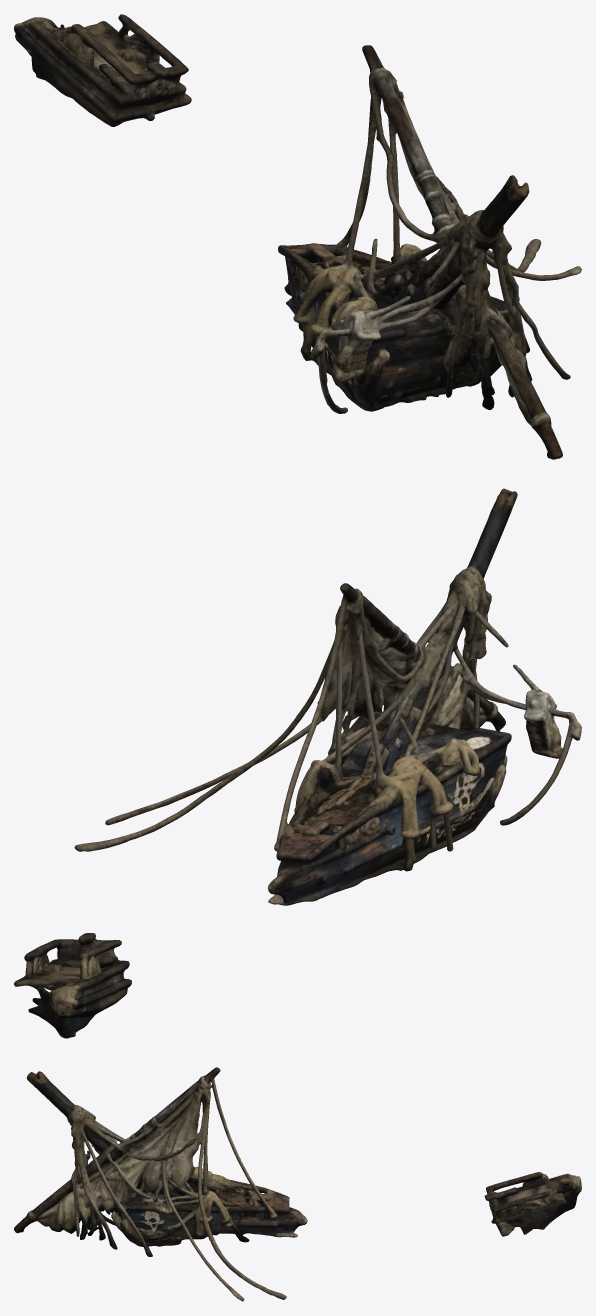
The model's file is ship debris.glb.
3 renders of one model, top to bottom at view 1: azimuth 30°, elevation 25°; view 2: azimuth 150°, elevation 25°; view 3: azimuth 270°, elevation 25°, orthographic. The views are drawn at different scales.
Visible parts, largest first — view 1: geometry_0; view 2: geometry_0; view 3: geometry_0.
Boxes of the visible parts, x1,y1,x2,y2 form: geometry_0: (14,14,581,459); geometry_0: (14,488,581,1038); geometry_0: (14,1067,581,1301).
Bounding box in the file's own units: 0.4461 × 0.3276 × 0.9968.
Materials: 1 (1 with a texture image).
